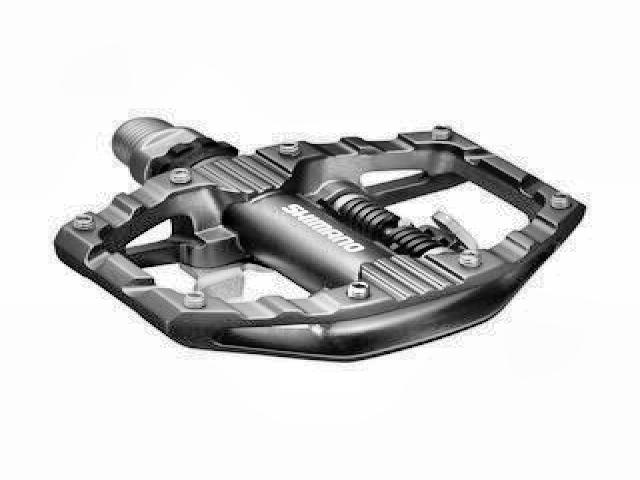pedal: (49, 112, 590, 366)
